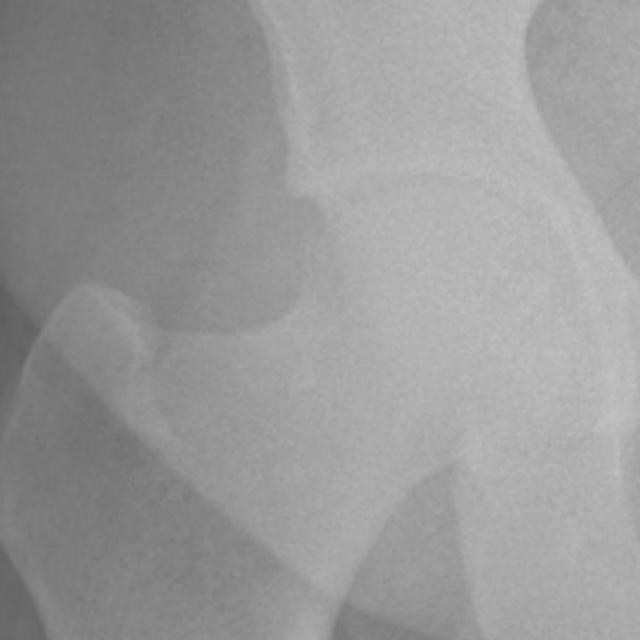Fitted_femural_head: (304, 185, 432, 304)
